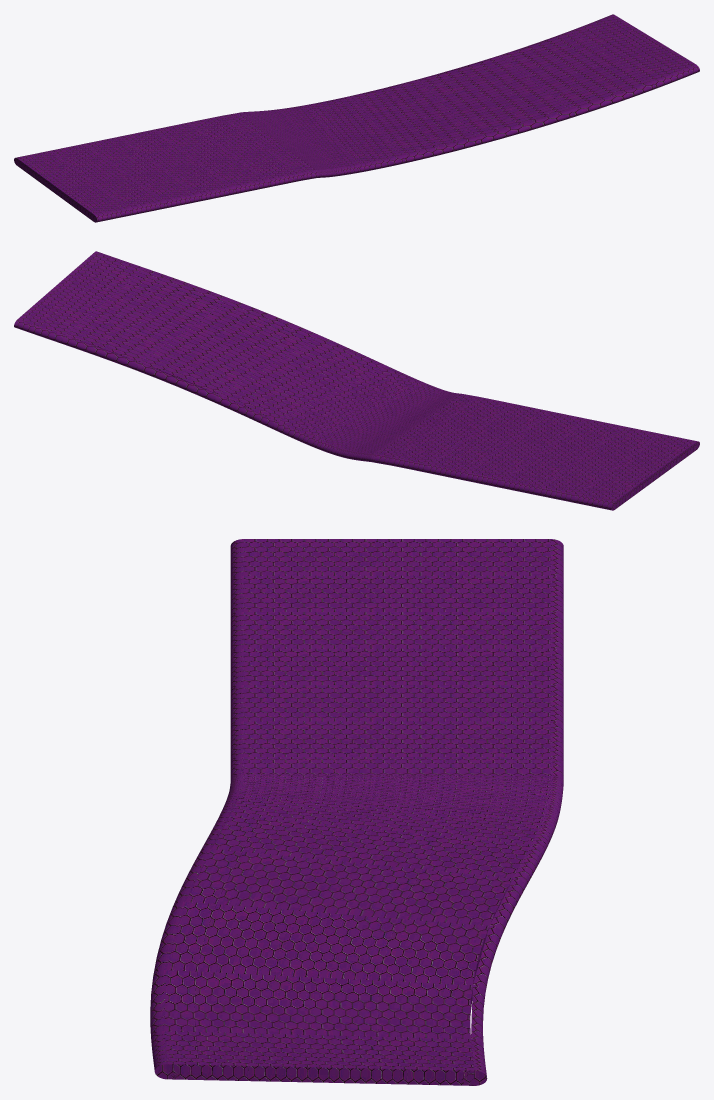
File: test-level-mesh-2c.glb
The picture shows the model from 3 angles, top to bottom: view 1: azimuth 30°, elevation 25°; view 2: azimuth 150°, elevation 25°; view 3: azimuth 270°, elevation 25°; orthographic projection. The views are drawn at different scales.
Visible parts, largest first — view 1: test-track-4; view 2: test-track-4; view 3: test-track-4.
Boxes of the visible parts, x1,y1,x2,y2 form: test-track-4: (14, 14, 699, 222); test-track-4: (14, 251, 699, 510); test-track-4: (150, 539, 563, 1085).
Bounding box in the file's own units: 33.84 × 2.37 × 10.37.
2 materials, 2 textured.
